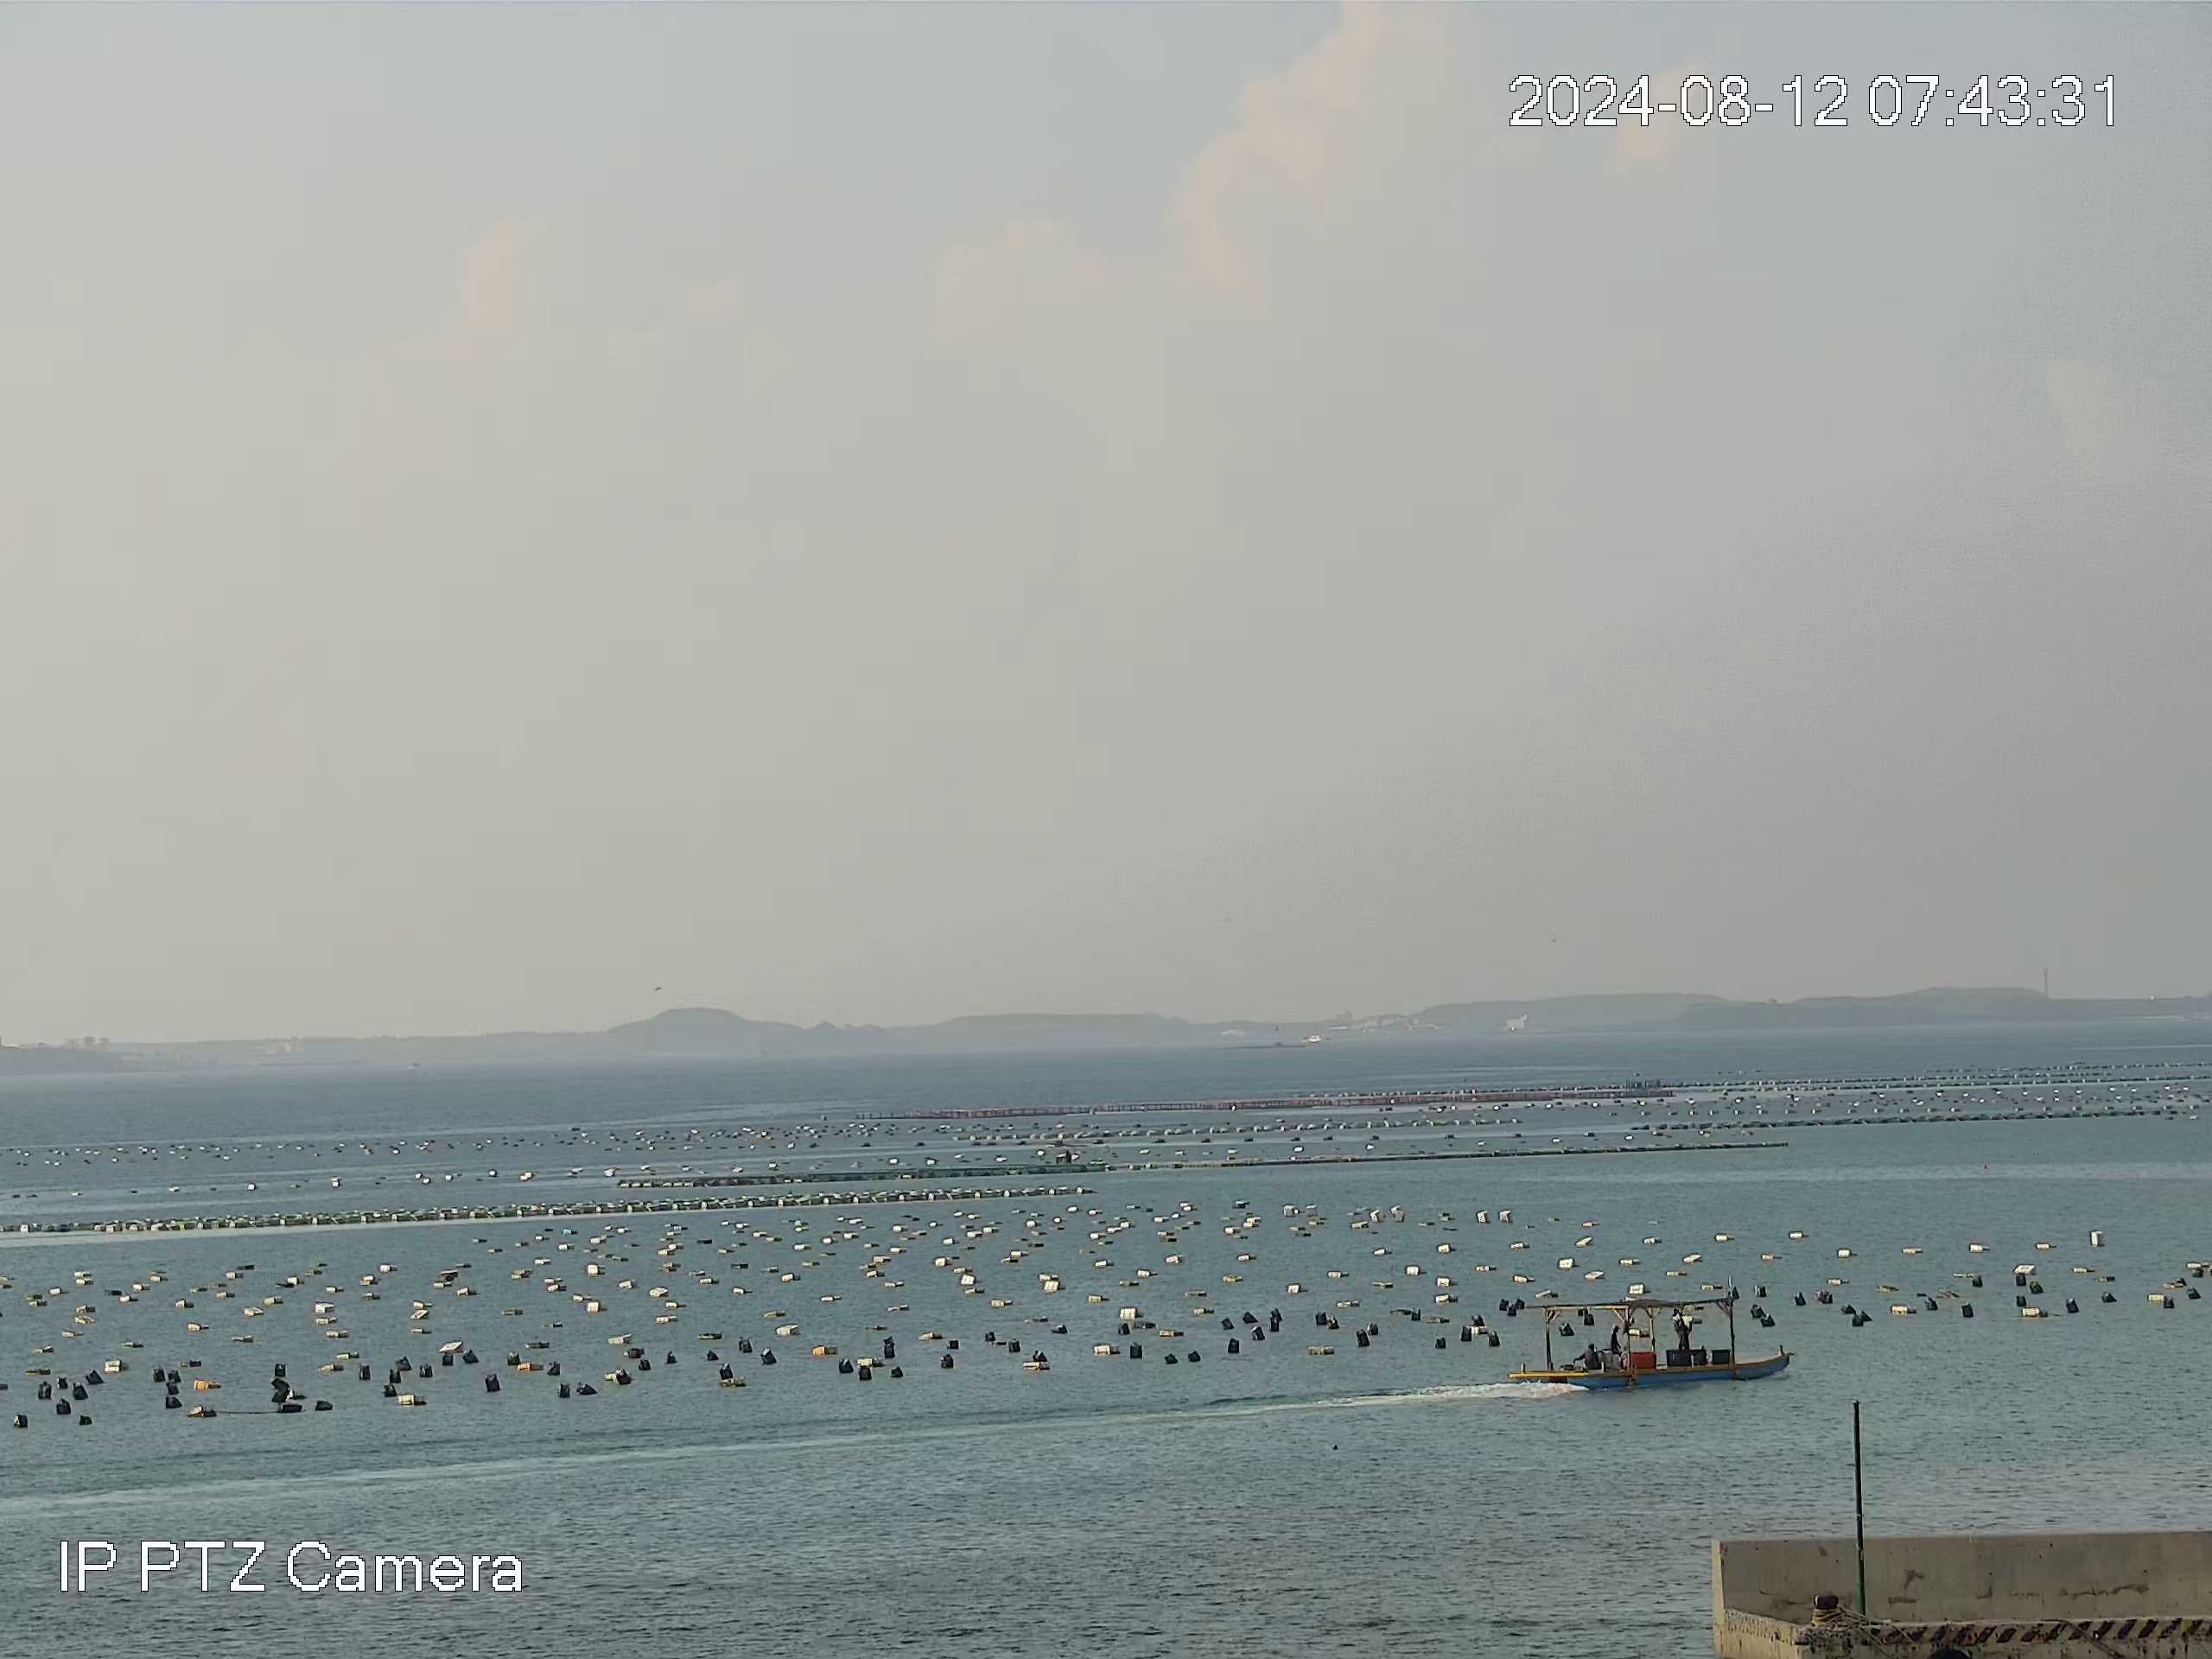boat: (1494, 1288, 1806, 1394)
